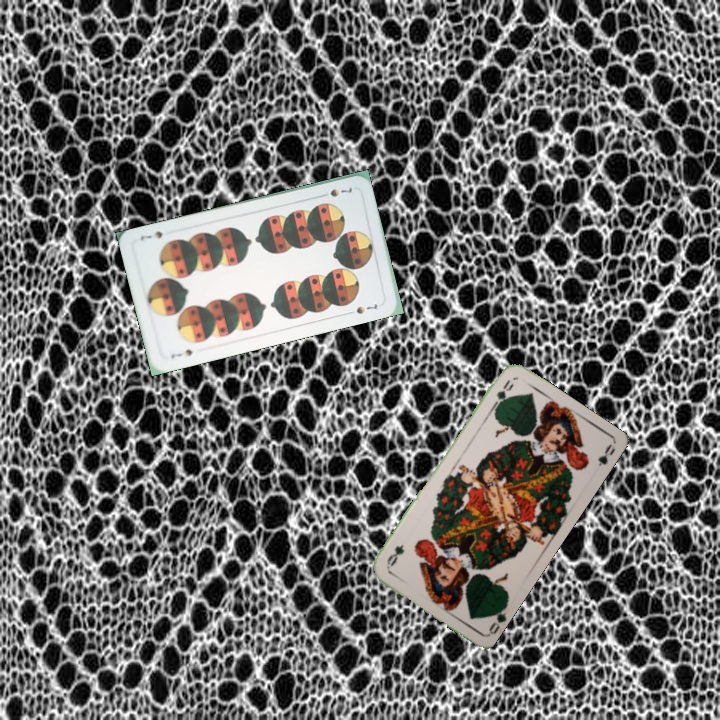GO: (488, 375, 516, 412), (484, 599, 510, 637)
S7: (316, 183, 354, 200), (167, 345, 195, 361)
